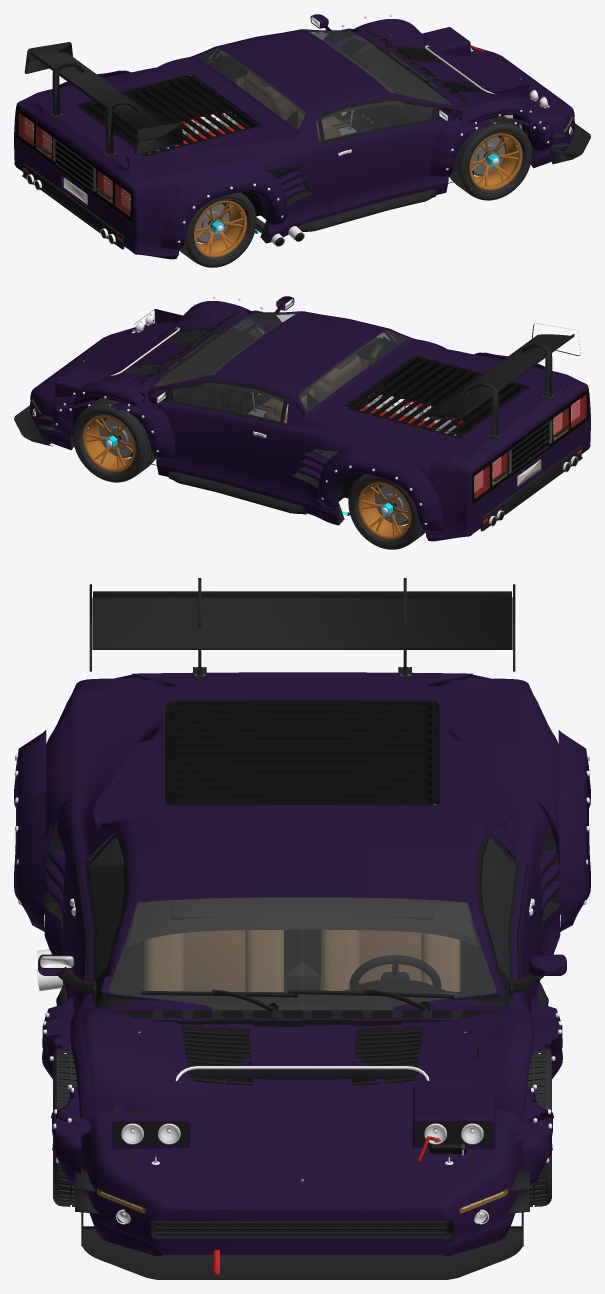
File: wedge-nightrunner_studio.glb
3 views of the same model, one above another, from view 1: azimuth 30°, elevation 25°; view 2: azimuth 150°, elevation 25°; view 3: azimuth 270°, elevation 25° (orthographic). The views are drawn at different scales.
Parts seen in each view (by area): view 1: body, hood, wheel_fr, wheel_rr, lamp_tail, bay; view 2: body, hood, wheel_fl, wheel_rl, lamp_tail, bay; view 3: body, hood, bay, wheel_fl, wheel_fr.
Part boxes in pixels (x1,y1,x2,y2): body: [14, 14, 590, 259]; hood: [368, 22, 564, 113]; wheel_fr: [449, 115, 531, 200]; wheel_rr: [179, 192, 256, 267]; lamp_tail: [18, 113, 130, 216]; bay: [365, 29, 533, 175]; body: [14, 296, 590, 541]; hood: [40, 304, 237, 397]; wheel_fl: [73, 397, 155, 482]; wheel_rl: [348, 474, 425, 549]; lamp_tail: [474, 395, 586, 498]; bay: [59, 311, 239, 457]; body: [14, 578, 590, 1279]; hood: [101, 1012, 503, 1189]; bay: [103, 1010, 501, 1225]; wheel_fl: [527, 1048, 551, 1206]; wheel_fr: [53, 1048, 77, 1206].
Size of the model in its own units: 4.38 by 1.34 by 2.36.
